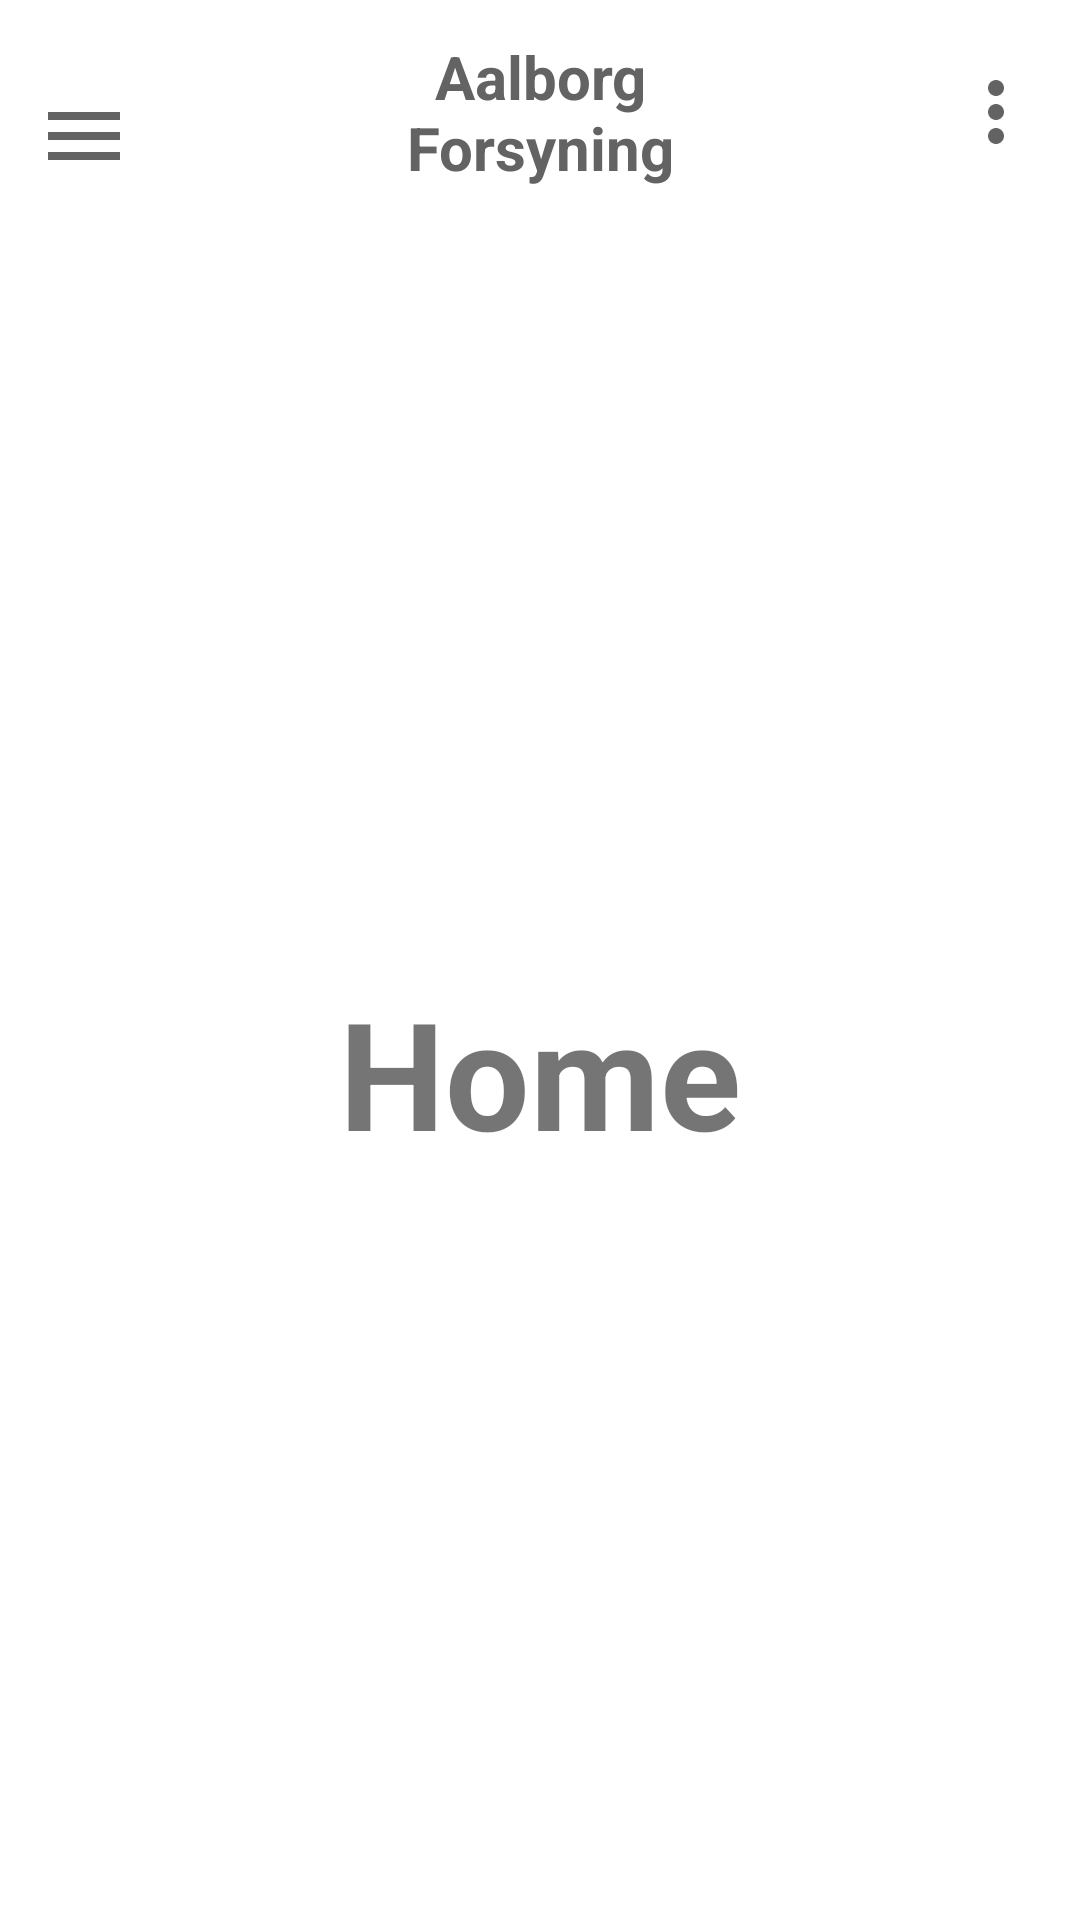

Screen size 1080 x 1920. Icon name, then its box in pixels as (x1, y1, x2, y2):
menu: (48, 112, 120, 160)
more: (988, 80, 1004, 144)
